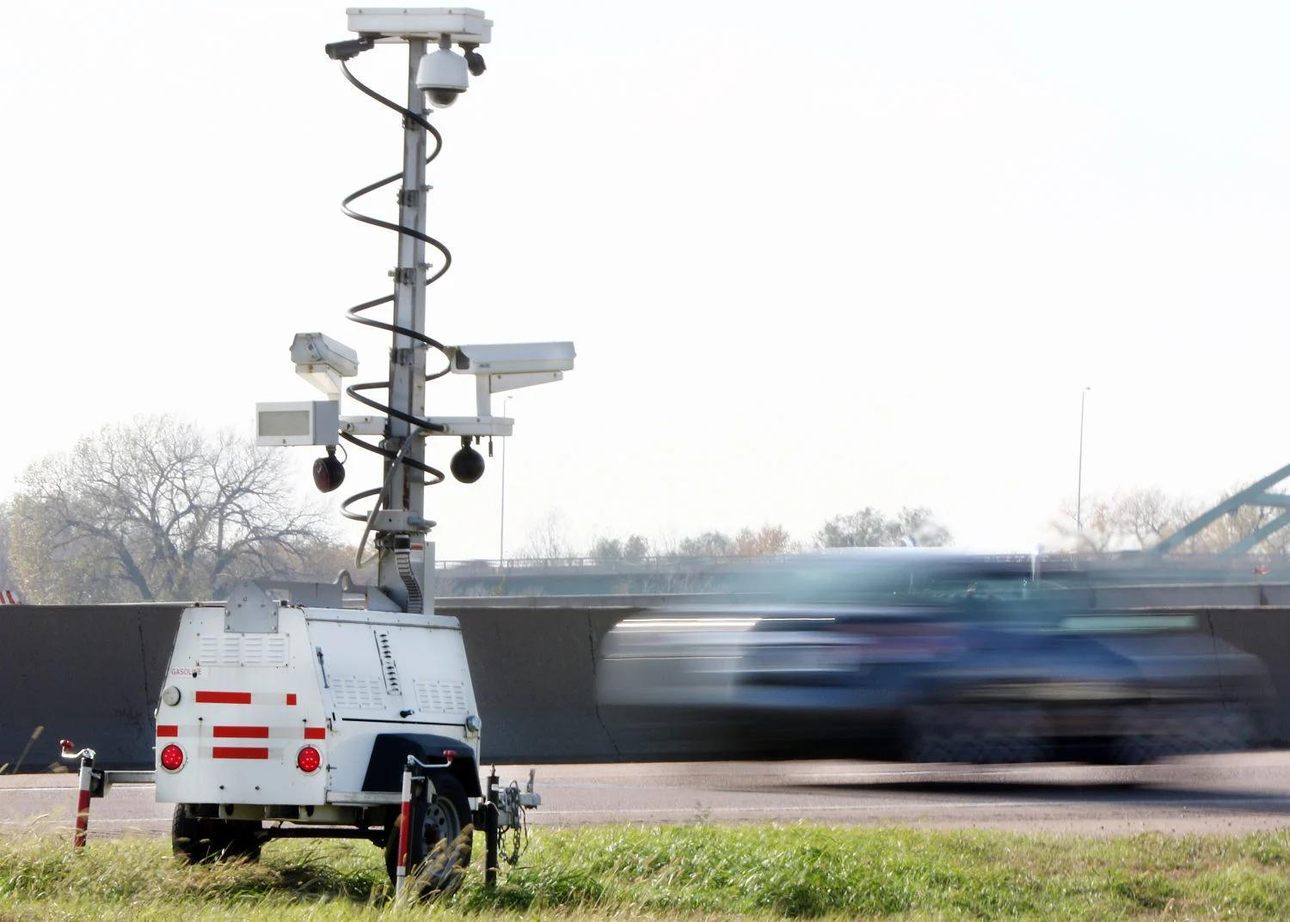Monitor: (437, 299, 582, 425), (273, 321, 368, 389)
